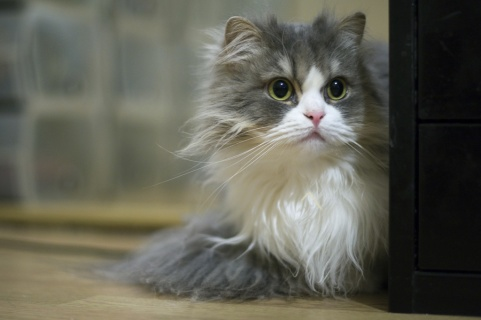Cat: (51, 0, 390, 303)
